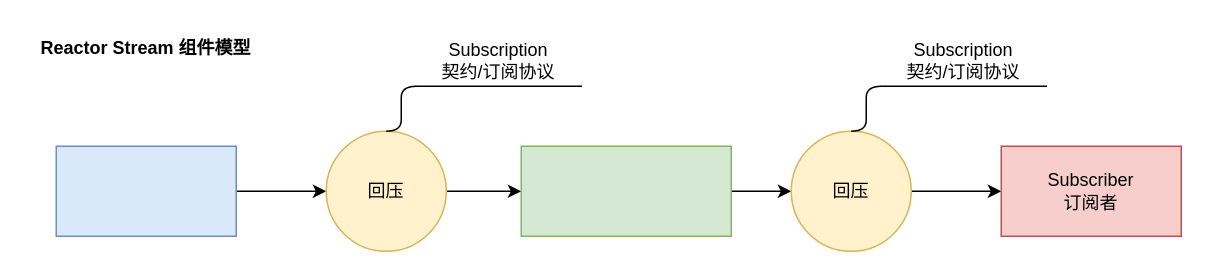
This 1208x278 diagram has some shape labels left out. The centre of each missing label's shape, as x and y in pixels:
Processor 处理器 Publish / Subscriber: (625,190)
Publisher 发布者: (145,190)
